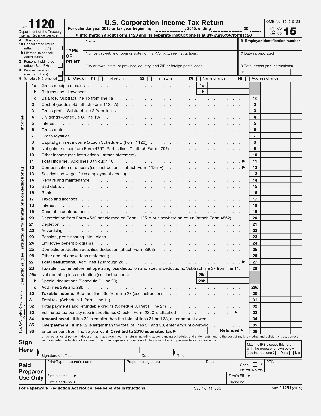checkbox: (240, 308, 246, 315), (289, 349, 295, 356), (57, 45, 63, 51), (196, 75, 202, 81), (245, 75, 251, 81), (98, 75, 103, 82), (276, 349, 281, 356), (58, 54, 63, 60), (58, 62, 63, 68), (58, 70, 63, 76), (58, 75, 63, 81), (147, 75, 152, 81), (253, 361, 258, 367)
textbox: (82, 36, 240, 52), (82, 49, 240, 64), (82, 61, 240, 76), (72, 377, 228, 386), (72, 371, 228, 379), (44, 358, 126, 373), (123, 358, 205, 373), (236, 49, 306, 65), (236, 36, 305, 52), (236, 62, 292, 77), (259, 269, 293, 291), (259, 81, 293, 102), (263, 358, 306, 374), (203, 357, 239, 373), (246, 370, 305, 379), (247, 377, 306, 386), (290, 270, 306, 291), (290, 80, 304, 102), (207, 80, 240, 89), (207, 87, 240, 96), (260, 99, 293, 108), (260, 112, 293, 121), (260, 118, 293, 127), (260, 143, 293, 152), (260, 150, 293, 159), (260, 156, 293, 165), (259, 175, 292, 184), (260, 200, 293, 209), (260, 213, 293, 222), (260, 219, 293, 228), (260, 238, 293, 247), (259, 257, 292, 266), (260, 263, 293, 272), (260, 307, 293, 316), (260, 320, 293, 329), (206, 276, 239, 285), (260, 131, 292, 140), (260, 137, 292, 146), (260, 194, 292, 203), (260, 244, 292, 253), (260, 301, 292, 310), (260, 106, 293, 114), (260, 125, 293, 133), (259, 182, 292, 190), (259, 188, 292, 196), (260, 207, 293, 215), (260, 226, 293, 234), (260, 232, 293, 240), (260, 314, 293, 322), (260, 327, 293, 335), (207, 270, 240, 278), (260, 163, 292, 171), (260, 169, 292, 177), (260, 251, 292, 259), (260, 289, 292, 297), (260, 295, 292, 303), (290, 66, 305, 77), (290, 130, 305, 140), (290, 156, 305, 166), (290, 162, 305, 172), (290, 250, 305, 260), (290, 156, 306, 165), (290, 175, 306, 184), (290, 181, 306, 190), (289, 288, 305, 297), (290, 99, 305, 108), (290, 106, 305, 115), (290, 112, 305, 121), (290, 118, 305, 127), (290, 124, 305, 133), (290, 137, 305, 146), (290, 143, 305, 152), (290, 150, 305, 159), (290, 169, 305, 178), (290, 187, 305, 196), (290, 194, 305, 203), (290, 200, 305, 209), (290, 207, 305, 216), (290, 213, 305, 222), (290, 219, 305, 228), (290, 232, 305, 241), (290, 238, 305, 247), (290, 244, 305, 253), (290, 257, 305, 266), (290, 263, 305, 272), (290, 301, 305, 310), (290, 308, 305, 317), (290, 314, 305, 323), (290, 320, 305, 329), (290, 326, 305, 335), (236, 269, 251, 278), (236, 275, 251, 284), (237, 80, 251, 89), (237, 87, 251, 96)
textline: (41, 343, 142, 354), (176, 342, 244, 354), (176, 325, 210, 336), (138, 343, 169, 353), (155, 26, 187, 33), (210, 26, 243, 32), (249, 26, 263, 33)
